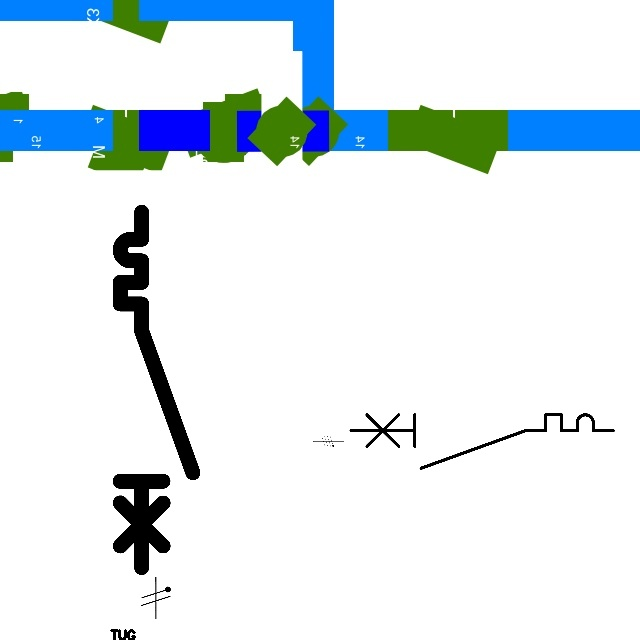interruptor_termomagnetico: (111, 203, 202, 577), (344, 408, 620, 475)
